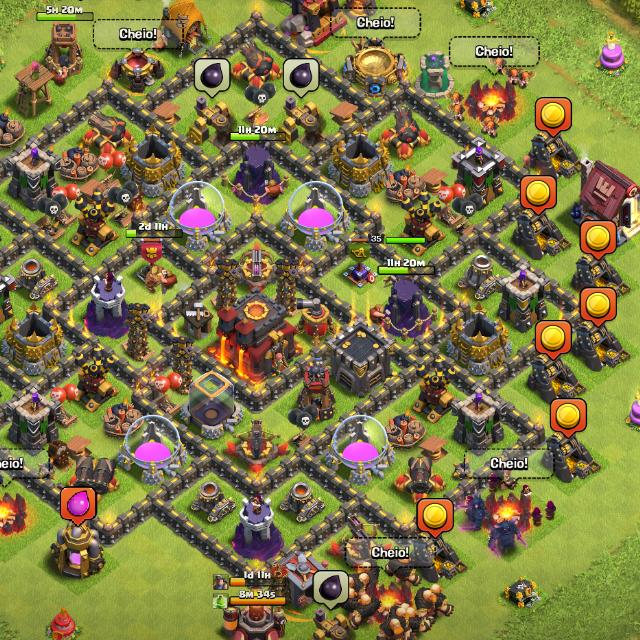ElixirNegro: (282, 56, 320, 98), (194, 58, 231, 98), (313, 570, 349, 610)
FullCoin: (534, 320, 573, 361), (416, 498, 455, 539), (535, 97, 573, 138), (550, 398, 588, 439), (520, 175, 557, 217), (580, 221, 618, 261), (579, 288, 617, 328)
FullElixir: (59, 486, 96, 527)
